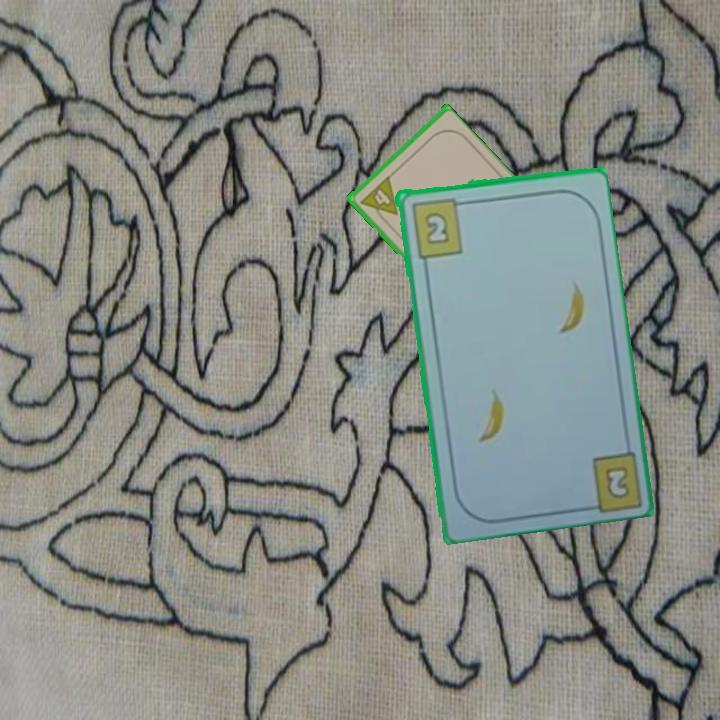2b: (407, 194, 469, 260), (601, 462, 633, 502)
4p: (356, 173, 400, 226)
